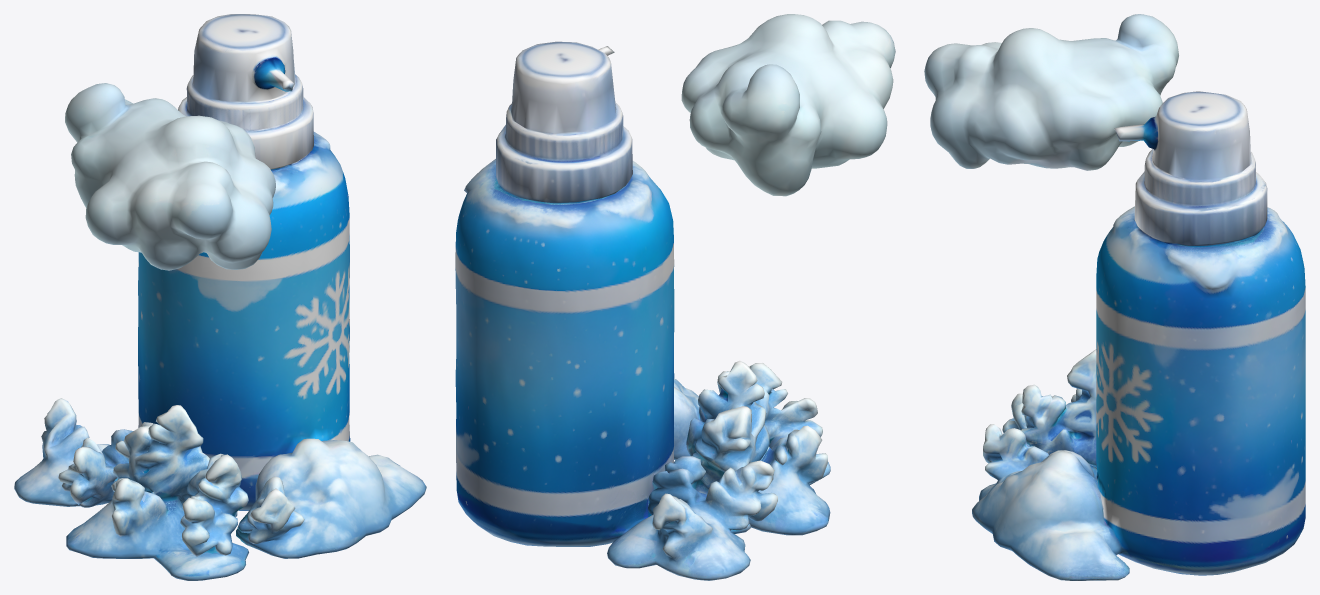
Rendered from Meshy_AI_Snowflake_Spray_Bottl_0227123048_texture.fbx.
3 renders of one model, left to right at view 1: azimuth 30°, elevation 25°; view 2: azimuth 150°, elevation 25°; view 3: azimuth 270°, elevation 25°, orthographic. The views are drawn at different scales.
Parts seen in each view (by area): view 1: Mesh_0; view 2: Mesh_0; view 3: Mesh_0.
Boxes of the visible parts, x1,y1,x2,y2 form: Mesh_0: (14,14,426,580); Mesh_0: (455,14,895,580); Mesh_0: (924,14,1305,580).
Size of the model in its own units: 150 by 191 by 148.
Materials: 1 (1 with a texture image).
